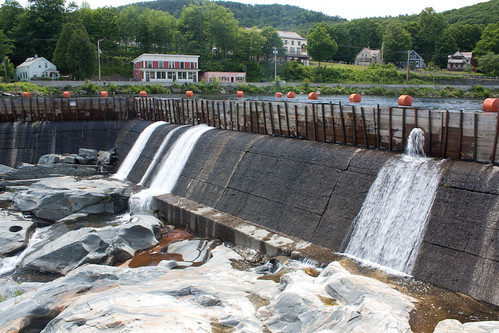building: (132, 49, 203, 82), (274, 28, 309, 64), (21, 52, 58, 80), (203, 65, 249, 83), (359, 47, 382, 70), (448, 45, 469, 69), (404, 49, 423, 70)
vegetation: (1, 1, 494, 76)
